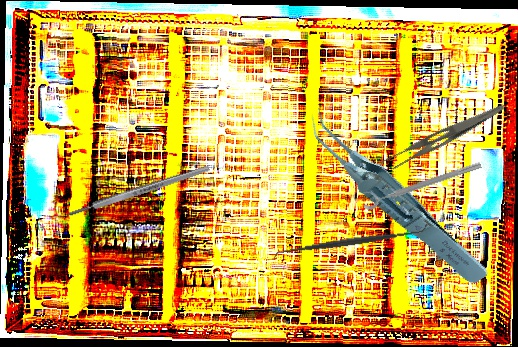Dressing Forceps: (378, 90, 506, 180)
Fixation Ring: (359, 152, 483, 212)
Scalpel Handle: (66, 164, 211, 219)
Spatula Surgical: (271, 222, 431, 261)
Tissue Forceps: (303, 78, 491, 313)
